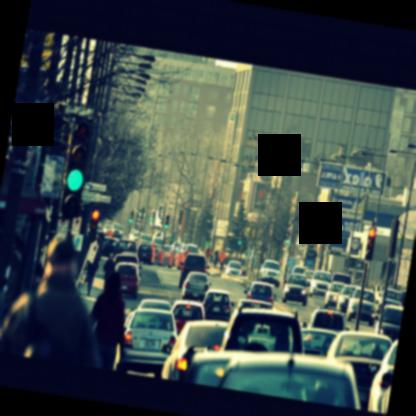backpack: (19, 323, 68, 363)
